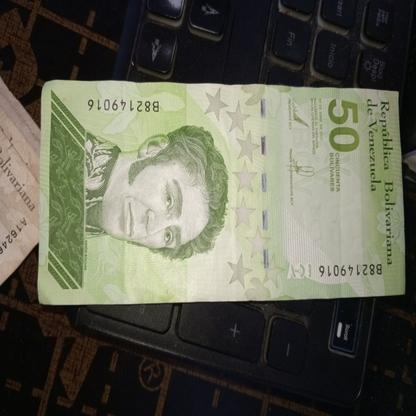fifty-front-vef: (39, 80, 404, 306)
